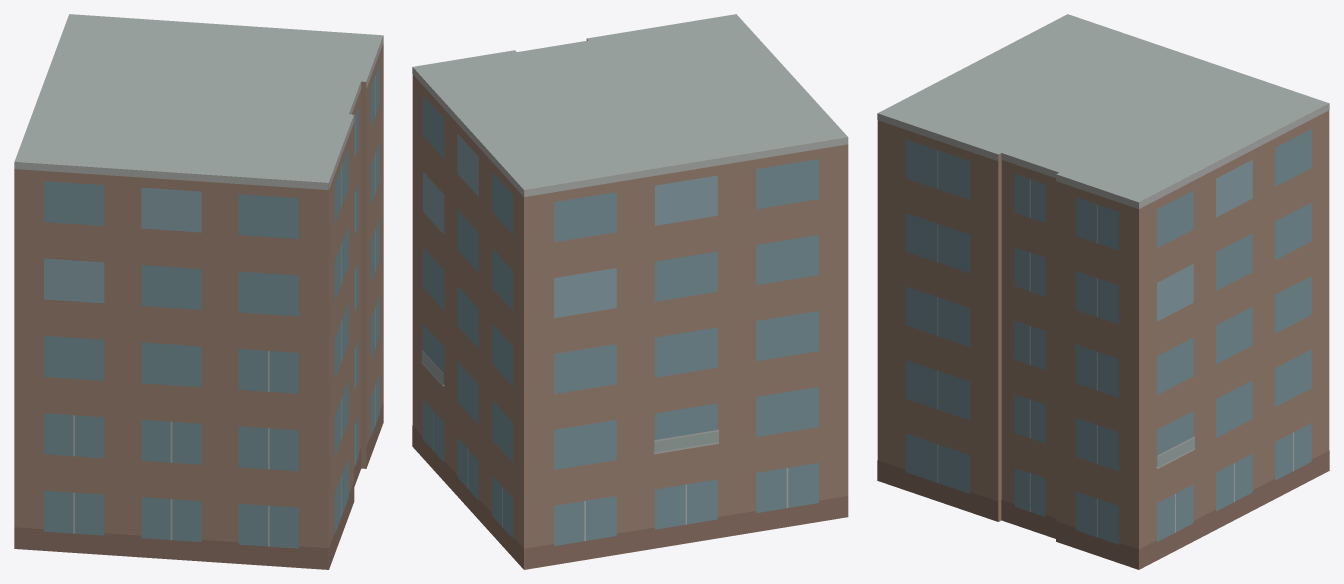
File: survey-upis-32879943.glb
3 views of the same model, side by side, from view 1: azimuth 30°, elevation 25°; view 2: azimuth 150°, elevation 25°; view 3: azimuth 270°, elevation 25° (orthographic). The views are drawn at different scales.
Visible parts, largest first — view 1: survey-upis-32879943.tmp; view 2: survey-upis-32879943.tmp; view 3: survey-upis-32879943.tmp.
Part boxes in pixels (left/top/right/bottom): survey-upis-32879943.tmp: left=14, top=14, right=383, bottom=569; survey-upis-32879943.tmp: left=412, top=14, right=848, bottom=569; survey-upis-32879943.tmp: left=877, top=14, right=1329, bottom=569.
Bounding box in the file's own units: 14.53 × 13.2 × 14.72.
